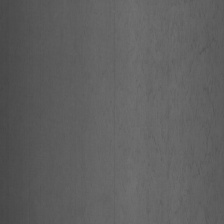silk_spot: (124, 8, 221, 207)
